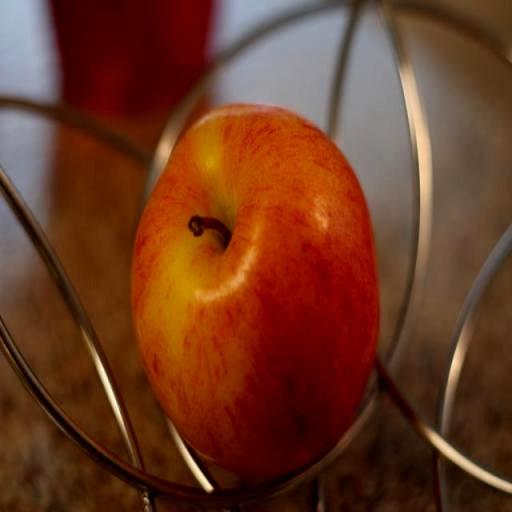fruit: (132, 105, 378, 475)
